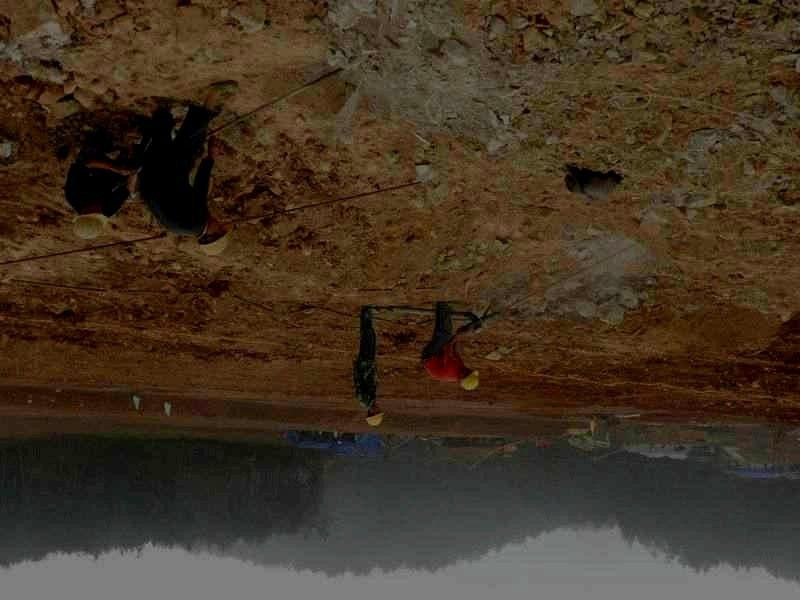helmet: (197, 219, 232, 257), (72, 208, 109, 240), (457, 366, 480, 391), (364, 404, 385, 427)
